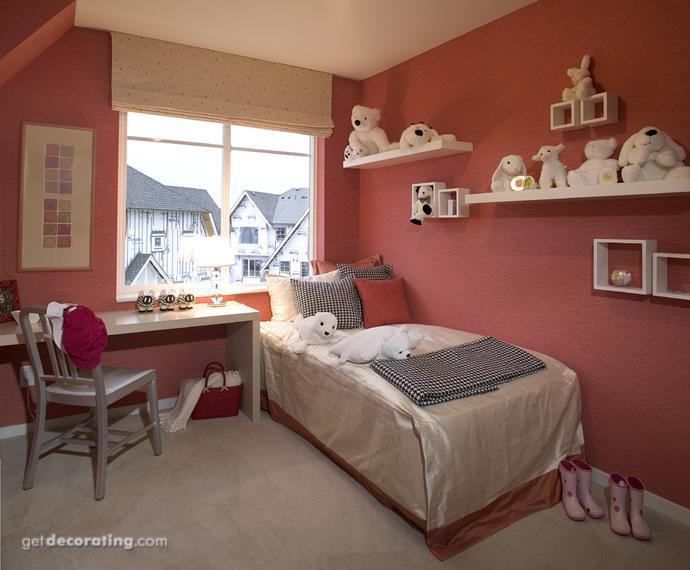Cama: (298, 279, 575, 535)
Otro Obstaculo: (177, 363, 238, 435), (603, 470, 657, 547), (557, 459, 607, 521)
Ventana: (121, 121, 317, 290)
